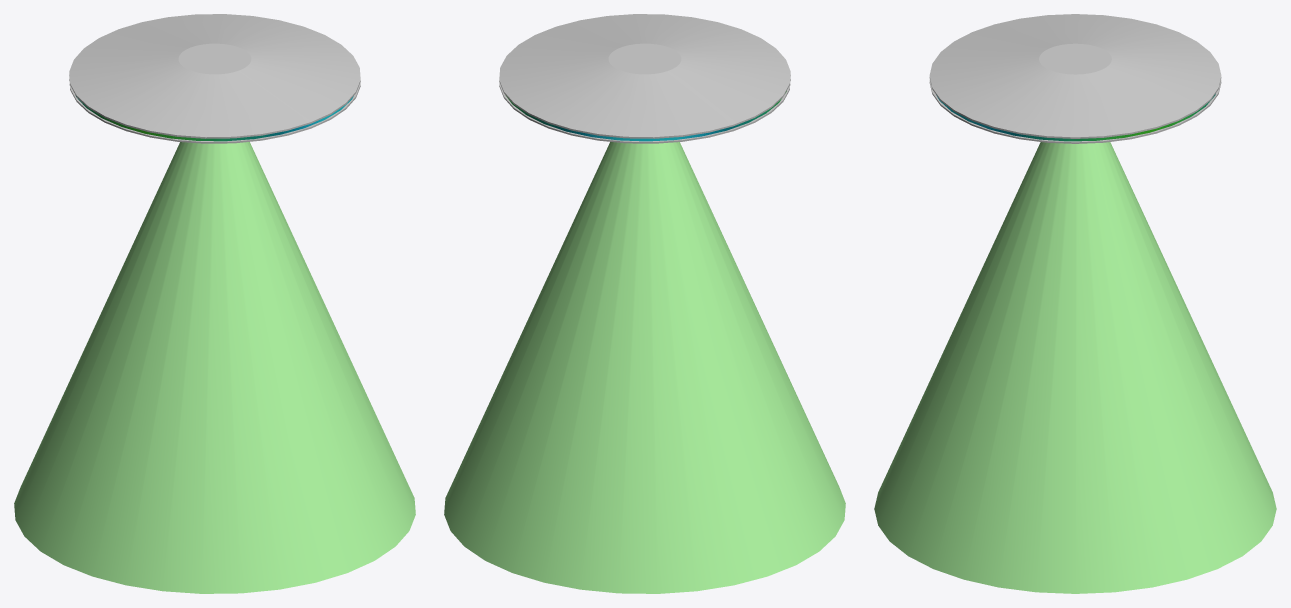
Rendered from Dragonfly_Abduction_UFO.fbx.
3 views of the same model, side by side, from view 1: azimuth 30°, elevation 25°; view 2: azimuth 150°, elevation 25°; view 3: azimuth 270°, elevation 25° (orthographic).
Parts seen in each view (by area): view 1: LightGlow, UFO, UFO Spinner; view 2: LightGlow, UFO, UFO Spinner; view 3: LightGlow, UFO, UFO Spinner.
Boxes of the visible parts, x1,y1,x2,y2 form: LightGlow: (14,142,415,593); UFO: (69,14,360,143); UFO Spinner: (75,95,353,141); LightGlow: (444,142,845,593); UFO: (499,14,790,143); UFO Spinner: (505,91,786,141); LightGlow: (874,142,1276,593); UFO: (929,14,1221,143); UFO Spinner: (936,93,1215,141).
Size of the model in its own units: 22.05 by 27.2 by 22.05.
